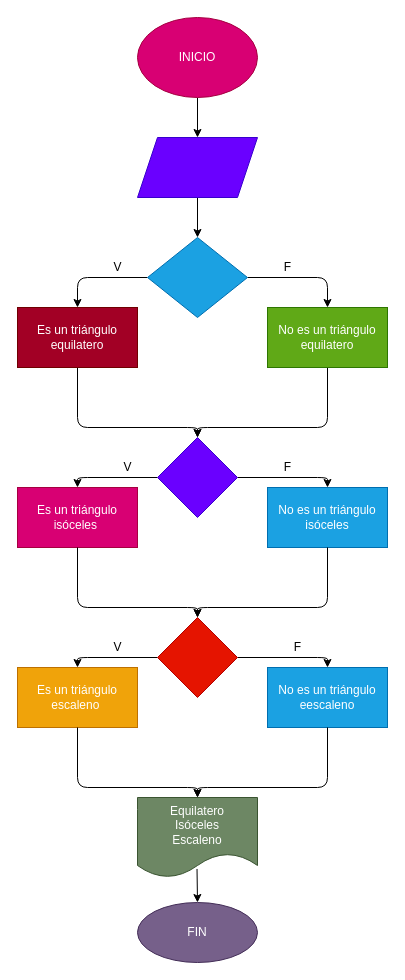
Image size: 405x980. Some labels were removed from this diagram. The shapes that lost their labels are listed below. From the top down, each one's centre as x and y in pixels, then its label:
the point at 197,167: A, B, C
the point at 197,277: A == B == C
the point at 197,477: A == B A == C B == C
the point at 197,657: A != B A != C B != C
